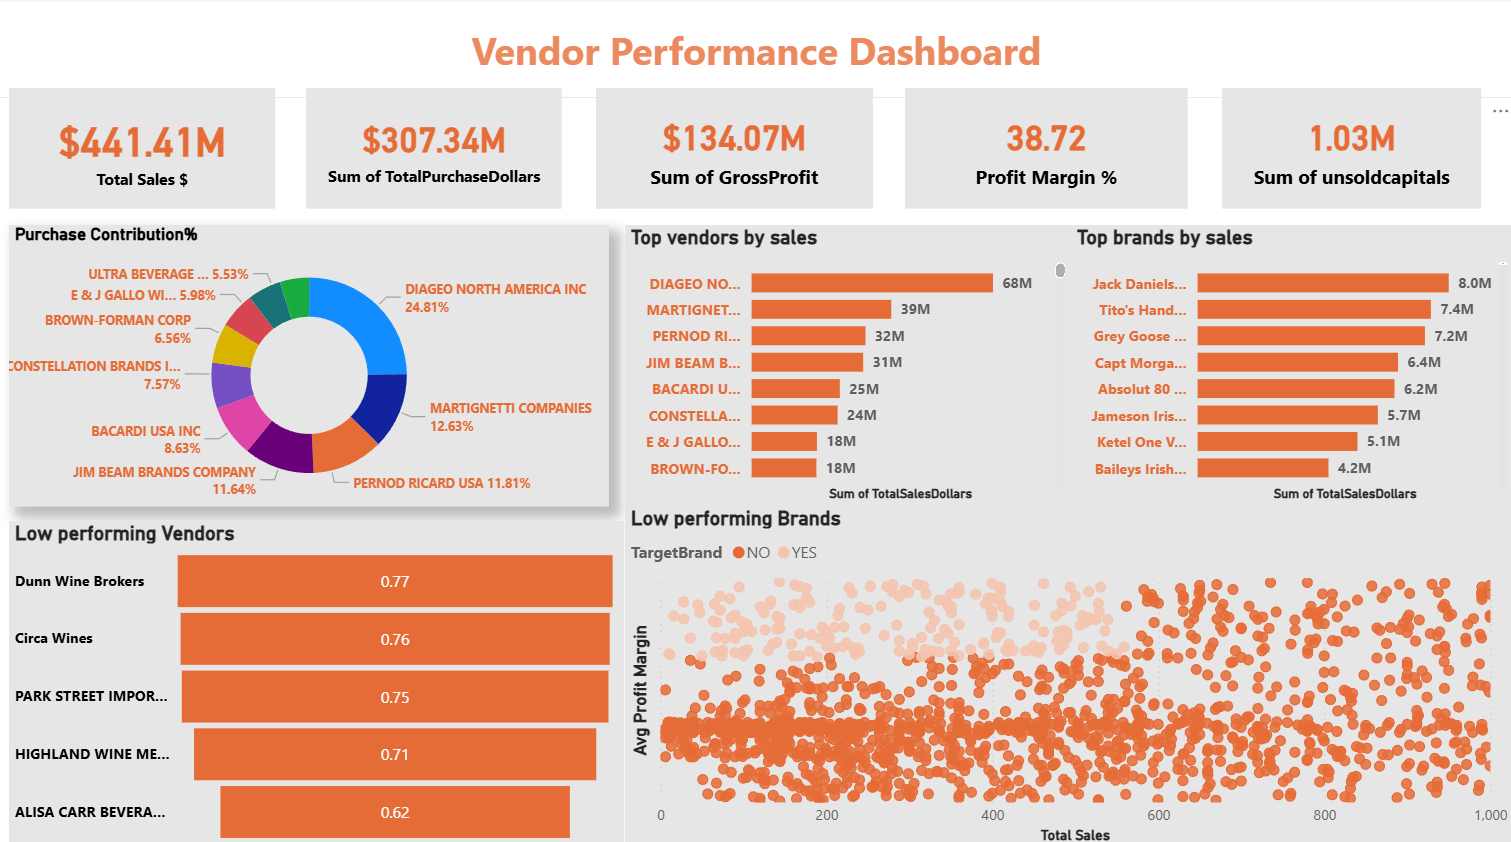

The page's visual inventory and layout, read from the dashboard file:
{"tool":"powerbi","page":{"name":"Page 1","canvas":[1280,720],"ordinal":0},"visuals":[{"type":"textbox","box":[0,0,1280,84.6],"z":0},{"type":"card","fields":{"Values":["Sum(vendor_sales_summary.TotalSalesDollars)"]},"box":[8.6,75.9,225.1,101.8],"z":1000},{"type":"card","fields":{"Values":["Sum(vendor_sales_summary.TotalPurchaseDollars)"]},"box":[259.6,75.9,216.5,101.8],"z":2000},{"type":"card","fields":{"Values":["Sum(vendor_sales_summary.GrossProfit)"]},"box":[504.6,75.9,233.7,101.8],"z":3000},{"type":"card","fields":{"Values":["Avg(vendor_sales_summary.ProfitMargin)"]},"box":[765.9,75.9,238.9,101.8],"z":4000},{"type":"card","fields":{"Values":["Sum(vendor_sales_summary.unsoldcapitals)"]},"box":[1033.3,75.9,219.1,101.8],"z":5000},{"type":"donutChart","title":"Purchase Contribution% ","fields":{"Y":["Sum(PurchaseContribution.PurchaseContribution%)"],"Category":["PurchaseContribution.VendorName"]},"box":[8.6,191.5,507.2,238.1],"z":6000},{"type":"barChart","title":"Top vendors by sales","fields":{"Category":["vendor_sales_summary.VendorName"],"Y":["Sum(vendor_sales_summary.TotalSalesDollars)"]},"box":[528.7,191.5,376.9,238.1],"z":7000},{"type":"barChart","title":"Top brands by sales","fields":{"Category":["vendor_sales_summary.Description"],"Y":["Sum(vendor_sales_summary.TotalSalesDollars)"]},"box":[905.7,191.5,374.3,238.1],"z":8000},{"type":"funnel","title":"Low performing Vendors","fields":{"Category":["lowturnovervendor.VendorName"],"Y":["Sum(lowturnovervendor.AvgstockTurnOver)"]},"box":[8.6,441.6,520.1,277.7],"z":8001},{"type":"scatterChart","title":"Low performing Brands","fields":{"Category":["BrandPerformance.Description"],"X":["Sum(BrandPerformance.TotalSales)"],"Y":["Sum(BrandPerformance.AvgProfitMargin)"],"Series":["BrandPerformance.TargetBrand"]},"box":[528.7,429.5,751.3,289.8],"z":8002}]}

Visuals, with their boxes in screenshot pixels (x1, y1, x2, y2), scaled from the page's 1280x720 canvas onto the 1511x842 screenshot:
textbox: bbox=[0, 0, 1510, 99]
card - Sum(vendor_sales_summary.TotalSalesDollars): bbox=[10, 89, 276, 208]
card - Sum(vendor_sales_summary.TotalPurchaseDollars): bbox=[306, 89, 562, 208]
card - Sum(vendor_sales_summary.GrossProfit): bbox=[596, 89, 872, 208]
card - Avg(vendor_sales_summary.ProfitMargin): bbox=[904, 89, 1186, 208]
card - Sum(vendor_sales_summary.unsoldcapitals): bbox=[1220, 89, 1478, 208]
"Purchase Contribution% " donutChart: bbox=[10, 224, 609, 502]
"Top vendors by sales" barChart: bbox=[624, 224, 1069, 502]
"Top brands by sales" barChart: bbox=[1069, 224, 1510, 502]
"Low performing Vendors" funnel: bbox=[10, 516, 624, 841]
"Low performing Brands" scatterChart: bbox=[624, 502, 1510, 841]
